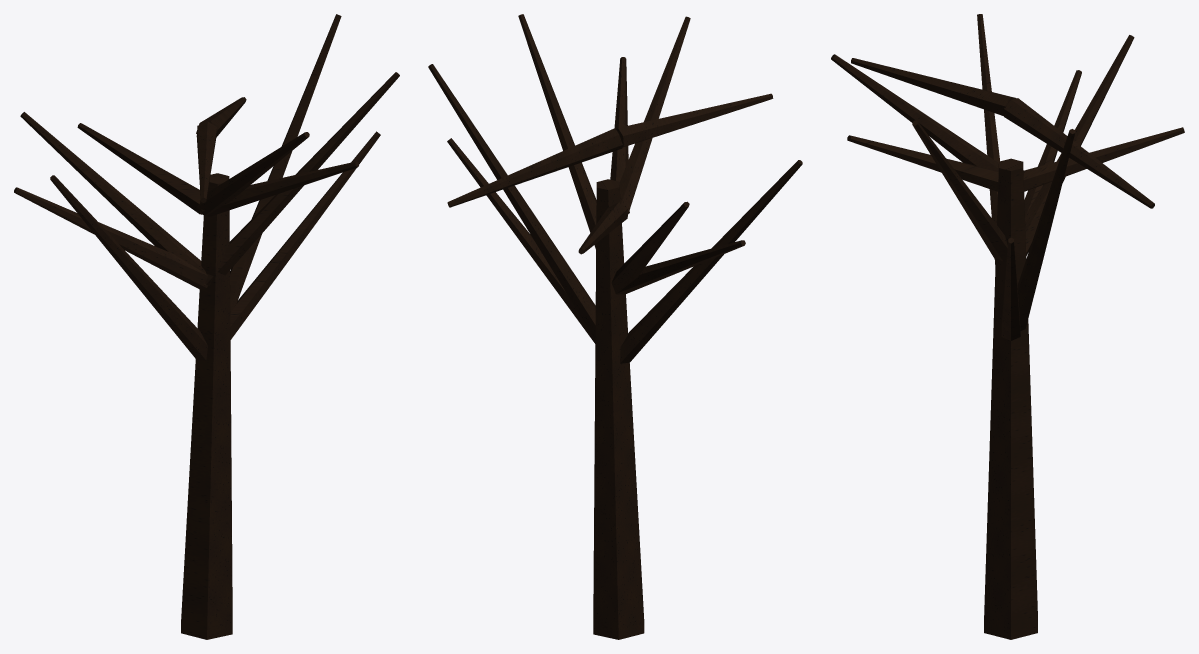
Rendered from PROP-A8AC198588A0_lod2.glb.
3 views of the same model, side by side, from view 1: azimuth 30°, elevation 25°; view 2: azimuth 150°, elevation 25°; view 3: azimuth 270°, elevation 25° (orthographic). The views are drawn at different scales.
Parts seen in each view (by area): view 1: branch.007, trunk.019; view 2: branch.007, trunk.019; view 3: branch.007, trunk.019.
Part boxes in pixels (box(x1,y1,x2,y2)): branch.007: box(14, 14, 399, 360); trunk.019: box(181, 173, 232, 639); branch.007: box(428, 14, 802, 363); trunk.019: box(593, 179, 644, 639); branch.007: box(831, 14, 1184, 340); trunk.019: box(984, 158, 1037, 639).
Size of the model in its own units: 3.2 by 4.92 by 2.72.
1 material, 1 textured.
